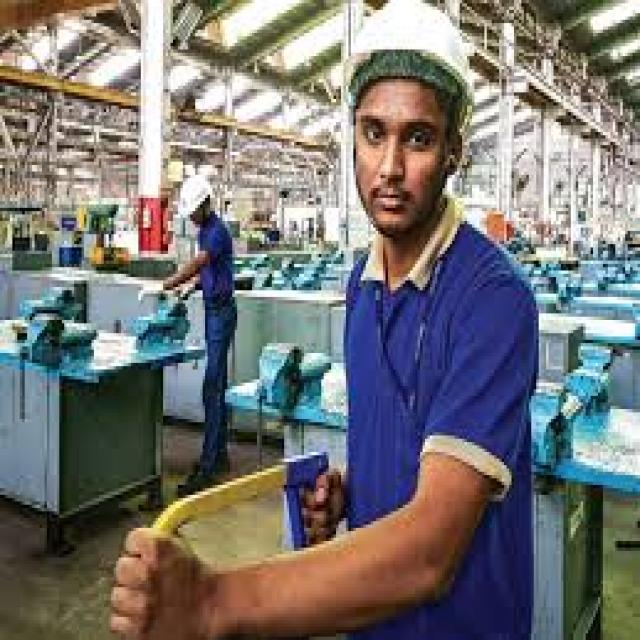Reflective-Jacket: (185, 221, 245, 320)
Safety-Helmet: (321, 0, 494, 122), (173, 168, 220, 224)
